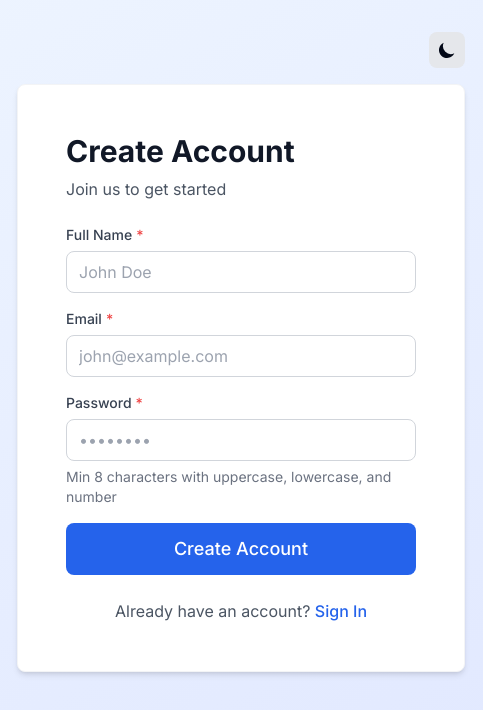
Test: User Registration Flow › should show validation errors for empty fields
# Click submit without filling fields
Click the button "Create Account": (241, 549) [66,523,416,575]
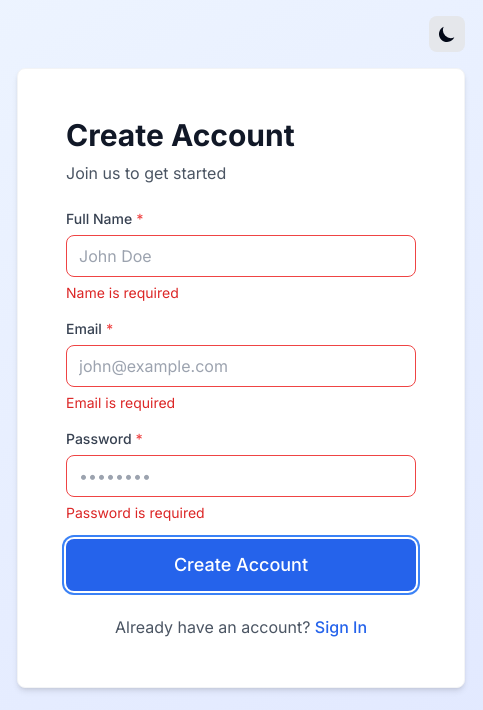
expect the text "Name is required" is shown: met, box [66,284,179,301]
expect the text "Email is required" is shown: met, box [66,394,175,411]
expect the text "Password is required" is shown: met, box [66,504,205,521]
